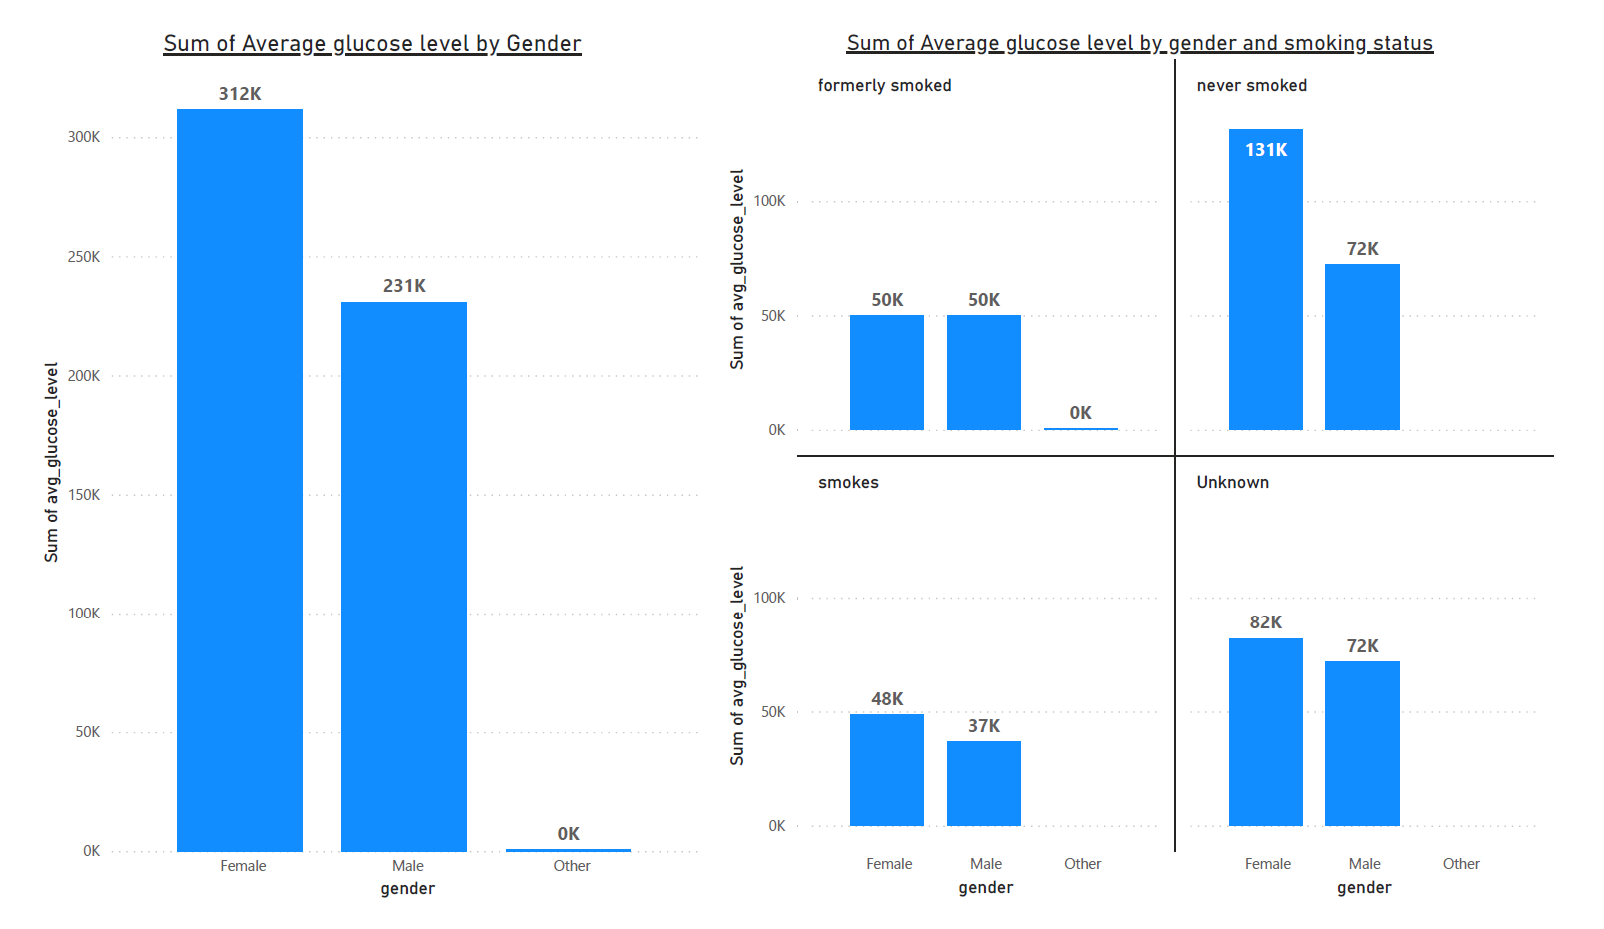

The page's visual inventory and layout, read from the dashboard file:
{"tool":"powerbi","page":{"name":"Page 5","canvas":[1280,720],"ordinal":4},"visuals":[{"type":"clusteredColumnChart","title":"Sum of Average glucose level by Gender","fields":{"Category":["healthcare-dataset-stroke-data.gender"],"Y":["Sum(healthcare-dataset-stroke-data.avg_glucose_level)"]},"box":[9.4,0,553.2,719.3],"z":0},{"type":"clusteredColumnChart","title":"Sum of Average glucose level by gender and smoking status","fields":{"Category":["healthcare-dataset-stroke-data.gender"],"Y":["Sum(healthcare-dataset-stroke-data.avg_glucose_level)"],"Rows":["healthcare-dataset-stroke-data.smoking_status"]},"box":[572,0,689.1,719.3],"z":1000}]}

Visuals, with their boxes in screenshot pixels (x1, y1, x2, y2), scaled from the page's 1280x720 canvas onto the 1604x929 screenshot:
"Sum of Average glucose level by Gender" clusteredColumnChart: [left=12, top=0, right=705, bottom=928]
"Sum of Average glucose level by gender and smoking status" clusteredColumnChart: [left=717, top=0, right=1580, bottom=928]
